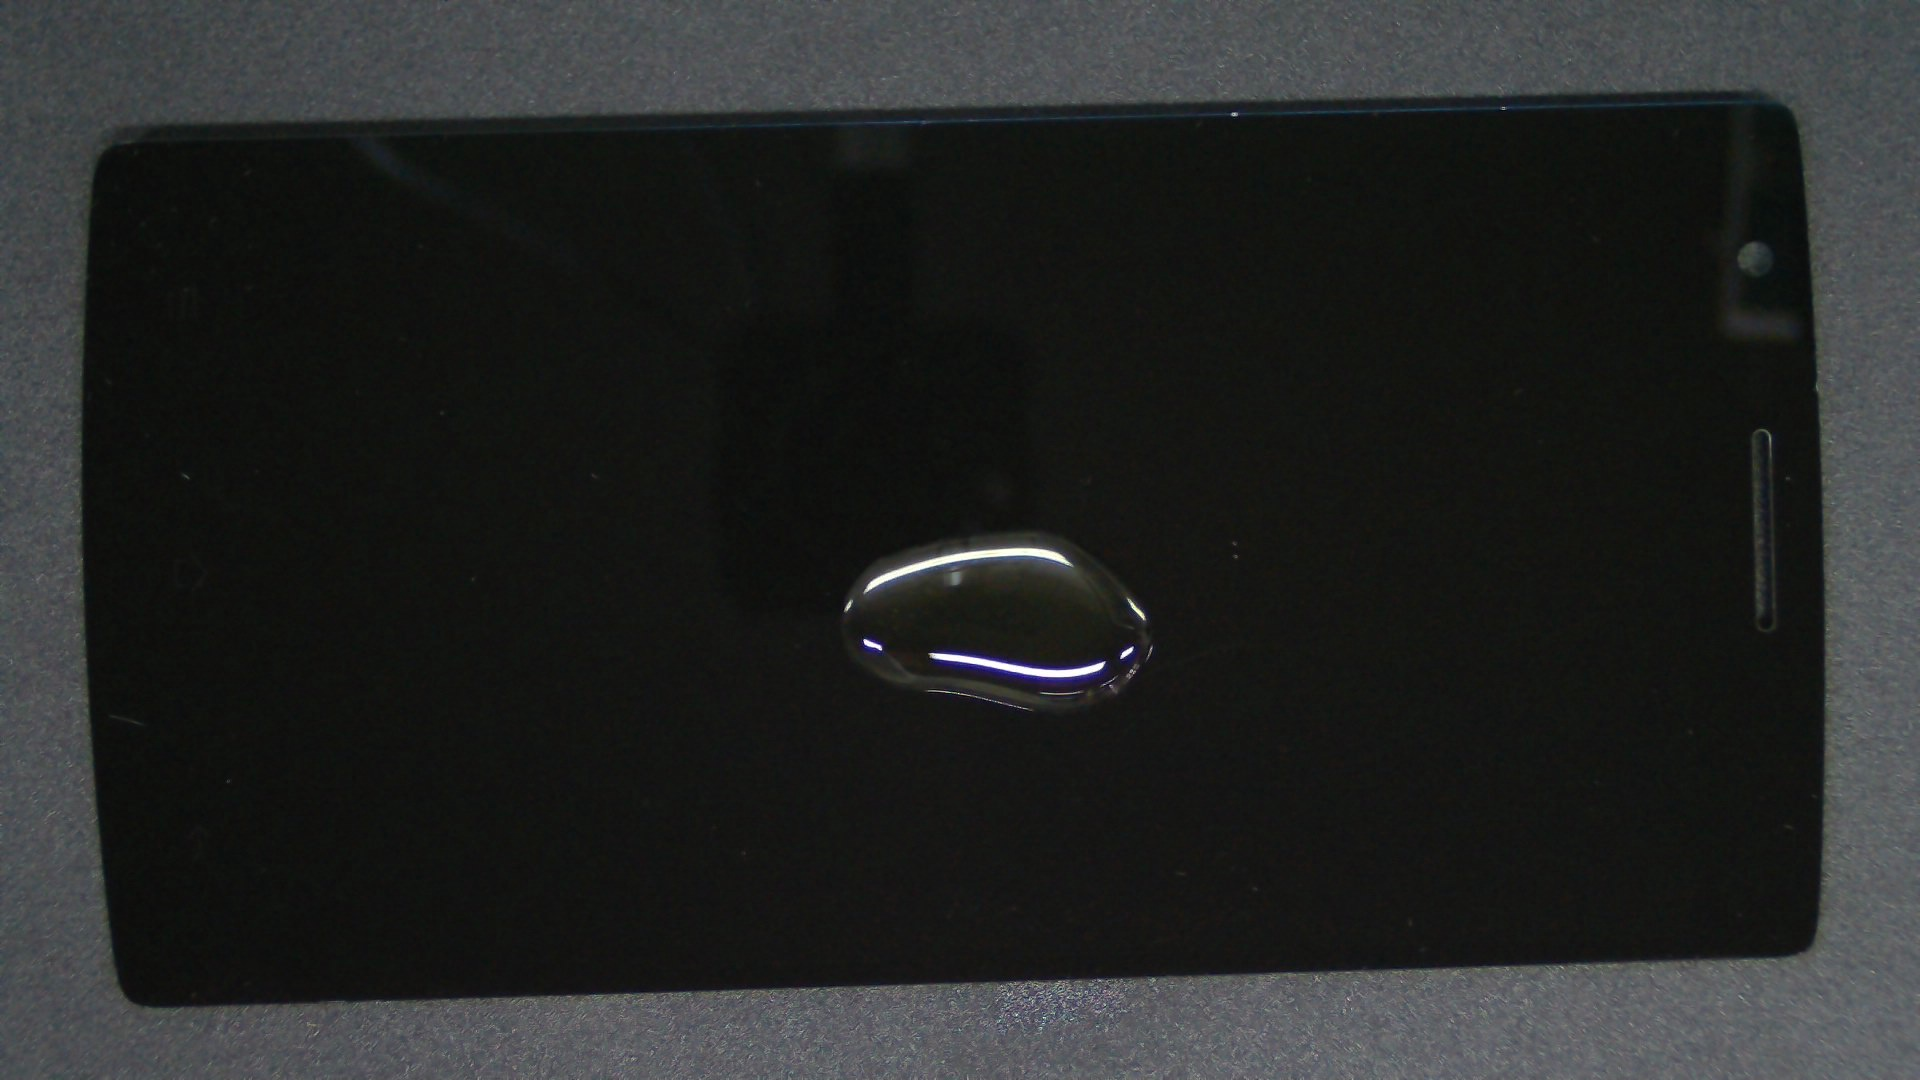oil: (518, 265, 1552, 796)
